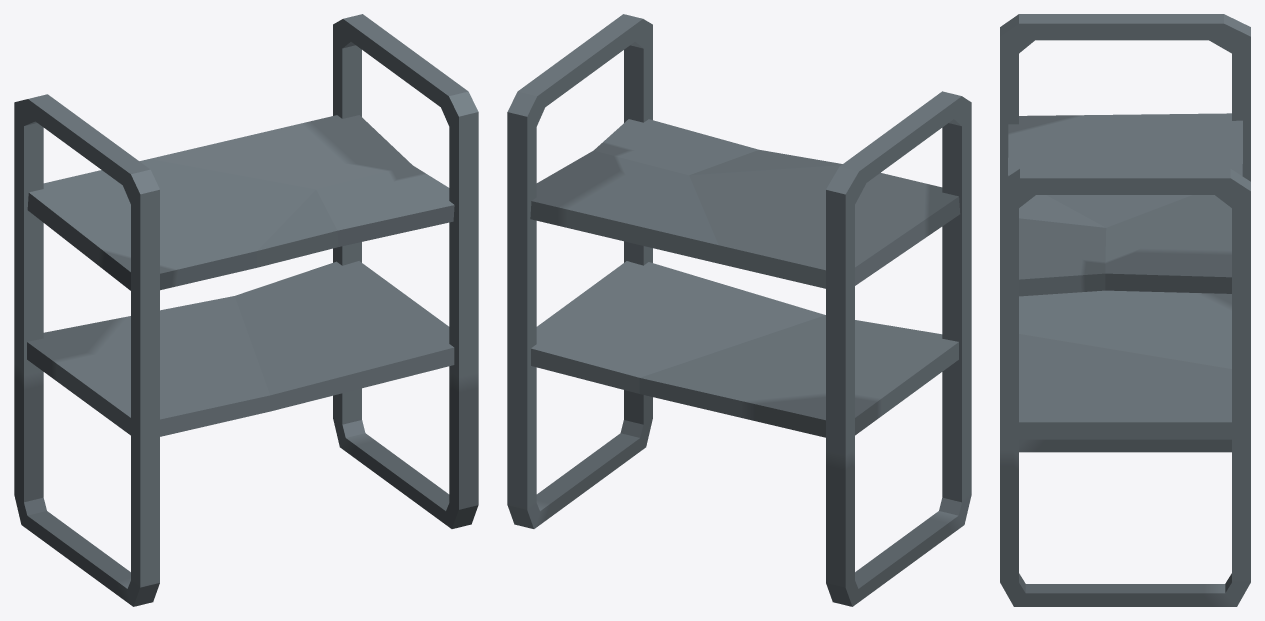
Rendered from SM_Prop_Medical_Shelf_01.fbx.
3 views of the same model, side by side, from view 1: azimuth 30°, elevation 25°; view 2: azimuth 150°, elevation 25°; view 3: azimuth 270°, elevation 25° (orthographic).
Visible parts, largest first — view 1: SM_Prop_Medical_Shelf_01; view 2: SM_Prop_Medical_Shelf_01; view 3: SM_Prop_Medical_Shelf_01.
Boxes of the visible parts, bbox=[...] form: SM_Prop_Medical_Shelf_01: bbox=[14, 14, 478, 606]; SM_Prop_Medical_Shelf_01: bbox=[507, 14, 971, 606]; SM_Prop_Medical_Shelf_01: bbox=[1000, 14, 1250, 606].
Bounding box in the file's own units: 86.82 × 106 × 56.
